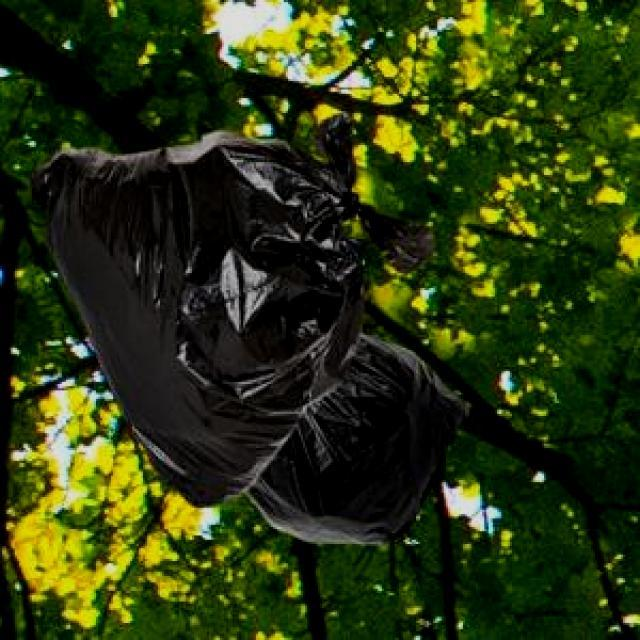Trashbag: (25, 116, 429, 510)
